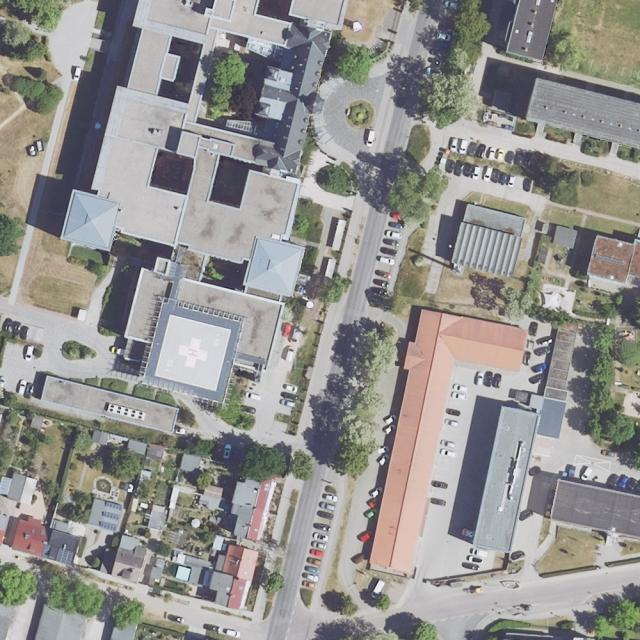PV: (56, 548, 74, 565), (100, 521, 119, 533), (105, 501, 123, 511), (102, 511, 121, 520)
ST: (42, 544, 51, 559)
